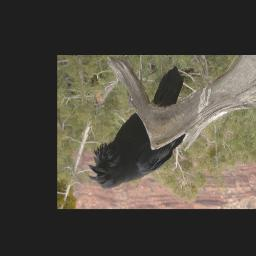Crow: (86, 65, 186, 189)
